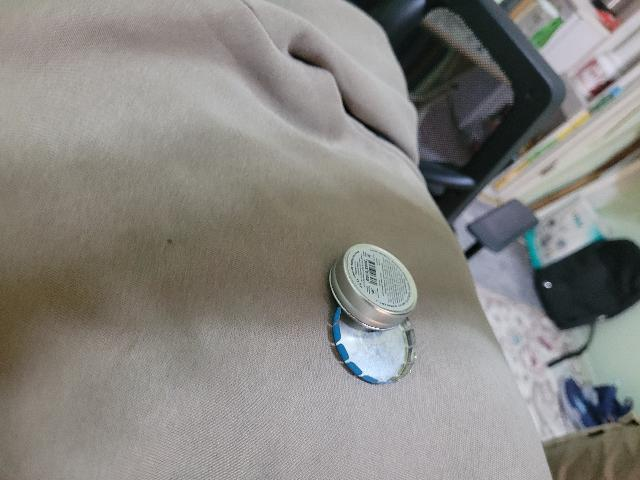Metal: (333, 243, 422, 332), (330, 303, 417, 390)
